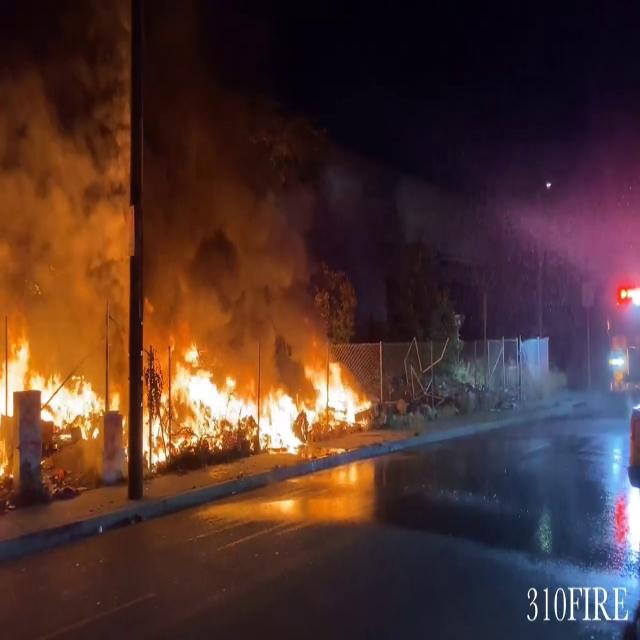Fire: (143, 340, 373, 454), (0, 335, 110, 460)
Smoke: (0, 5, 362, 338)
